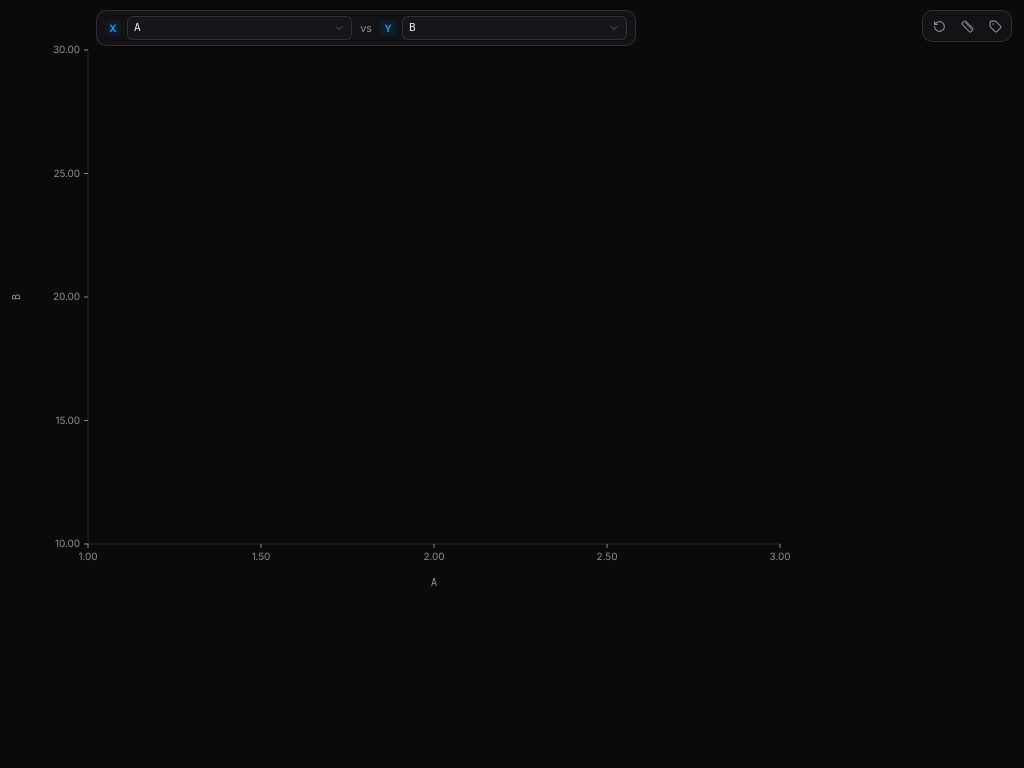
it: ScatterChart › axis-scale editor › applies a valid pin, closes the editor, and notifies the parent
Step 1. Click the button titled "Pin the X/Y axis" → (967, 26), box x1=954 y1=14 x2=980 y2=38
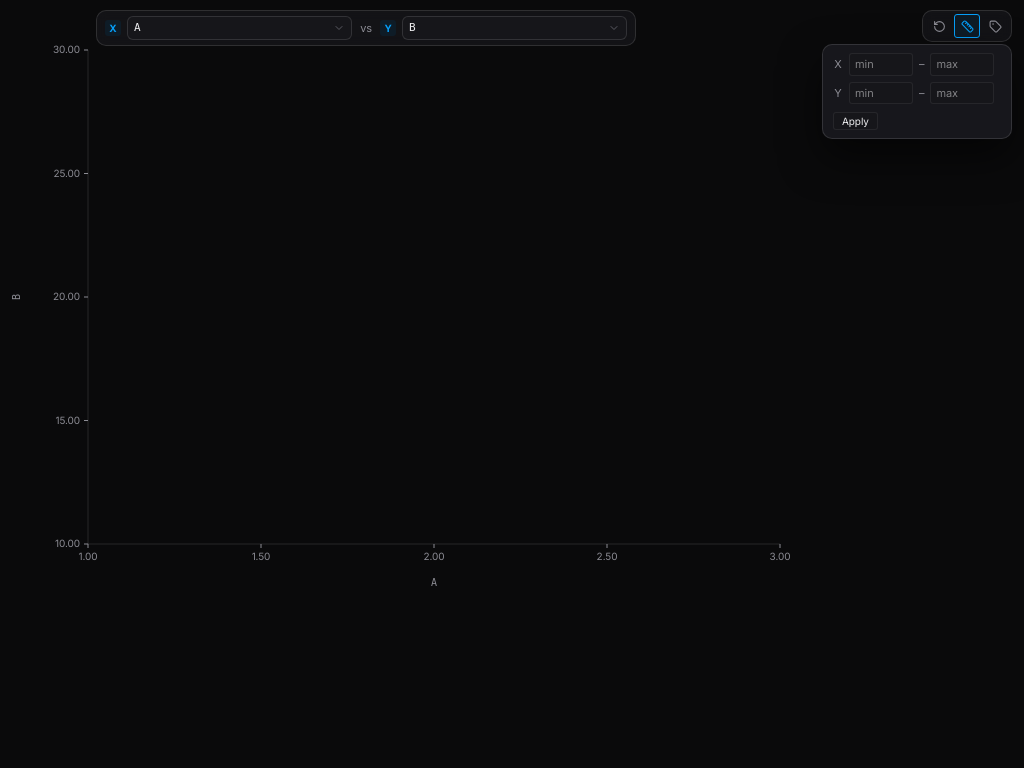
Step 2. Type "0" into the 1st number field with placeholder "min" → (881, 64), box x1=849 y1=53 x2=913 y2=76
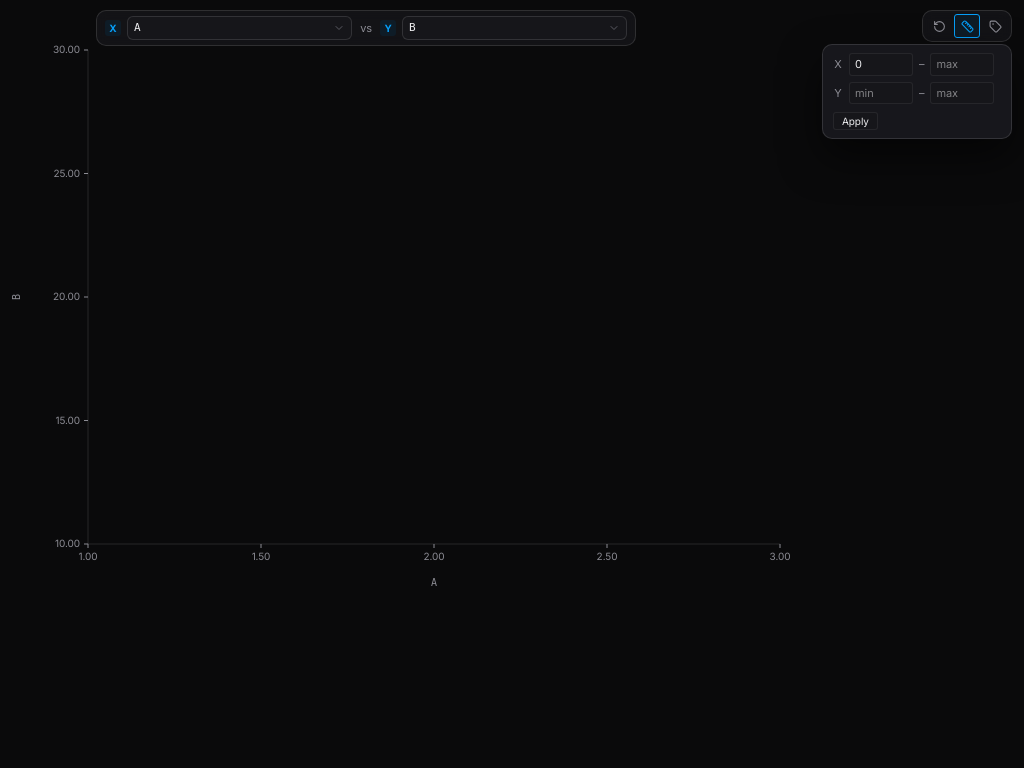
Step 3. Type "10" into the 1st number field with placeholder "max" → (962, 64), box x1=930 y1=53 x2=994 y2=76
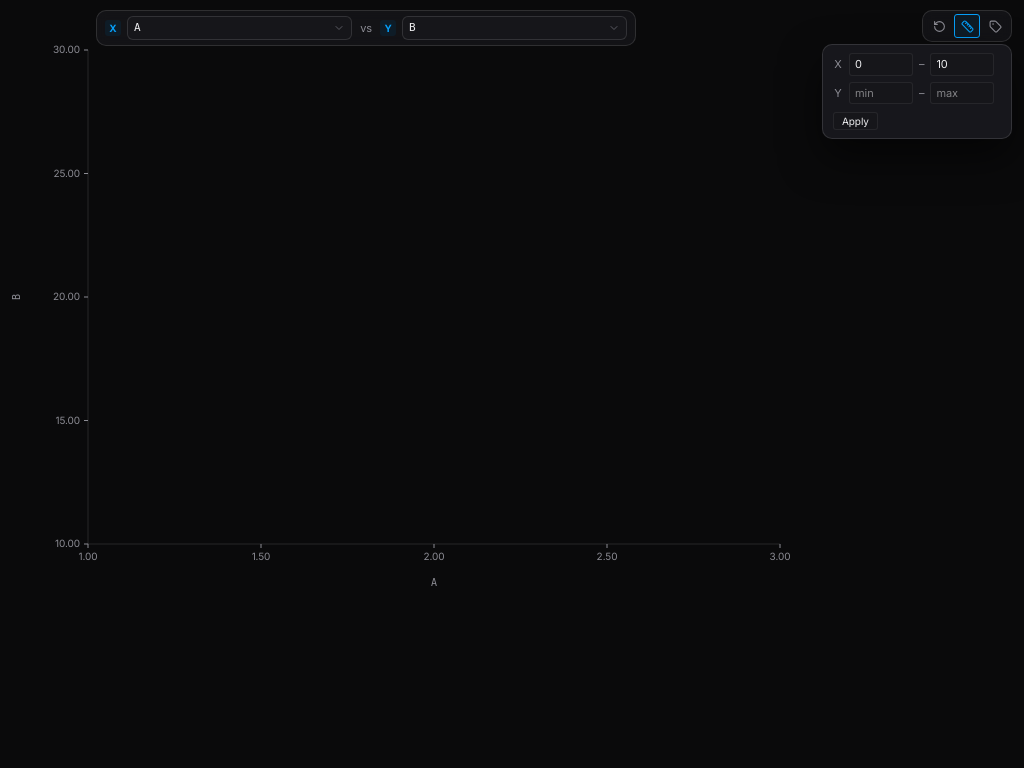
Step 4. Click the button "Apply" → (855, 121), box x1=833 y1=112 x2=878 y2=130
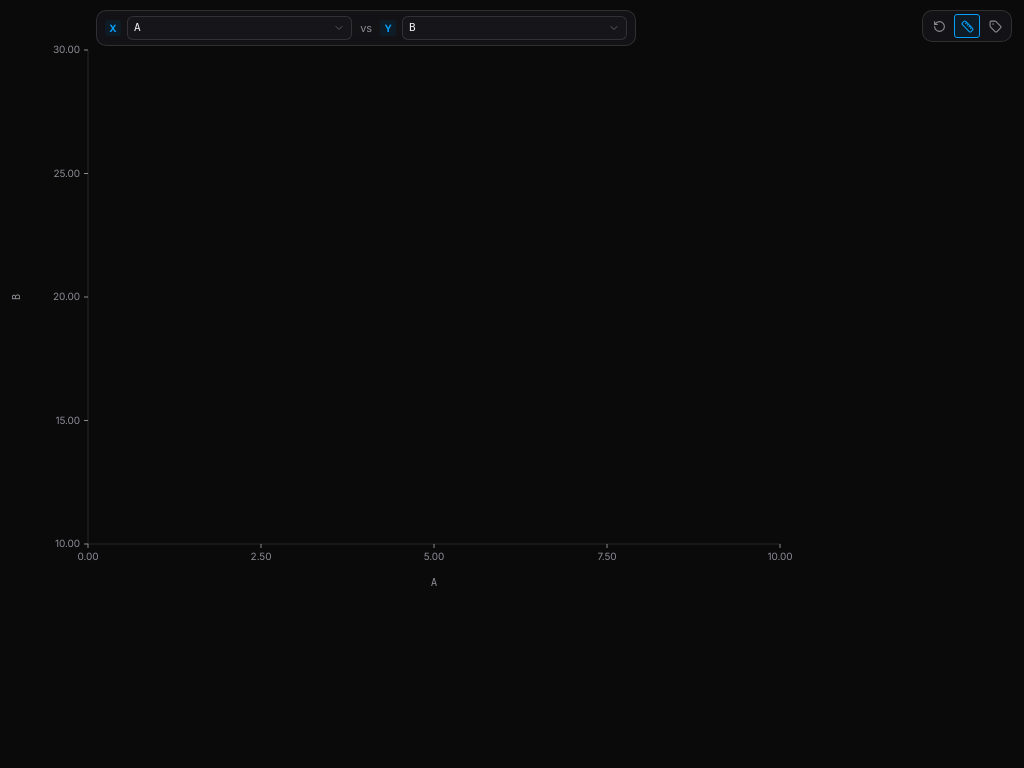
Result: the button "Apply" is gone
